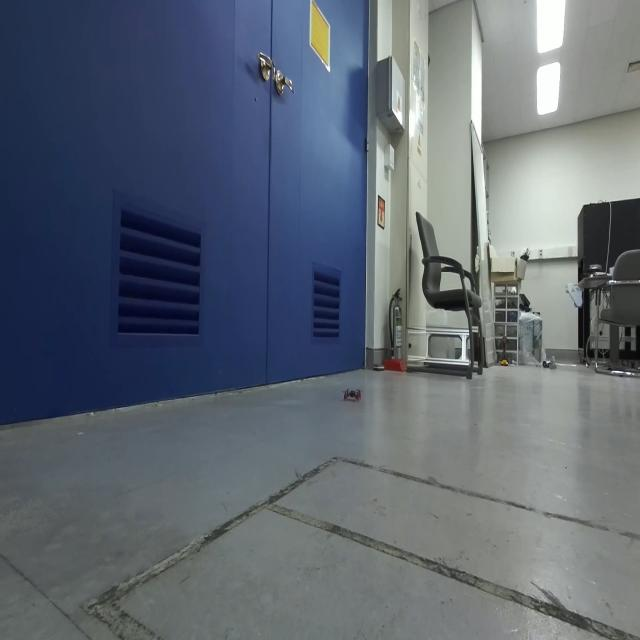crazyflie: (341, 383, 364, 408)
